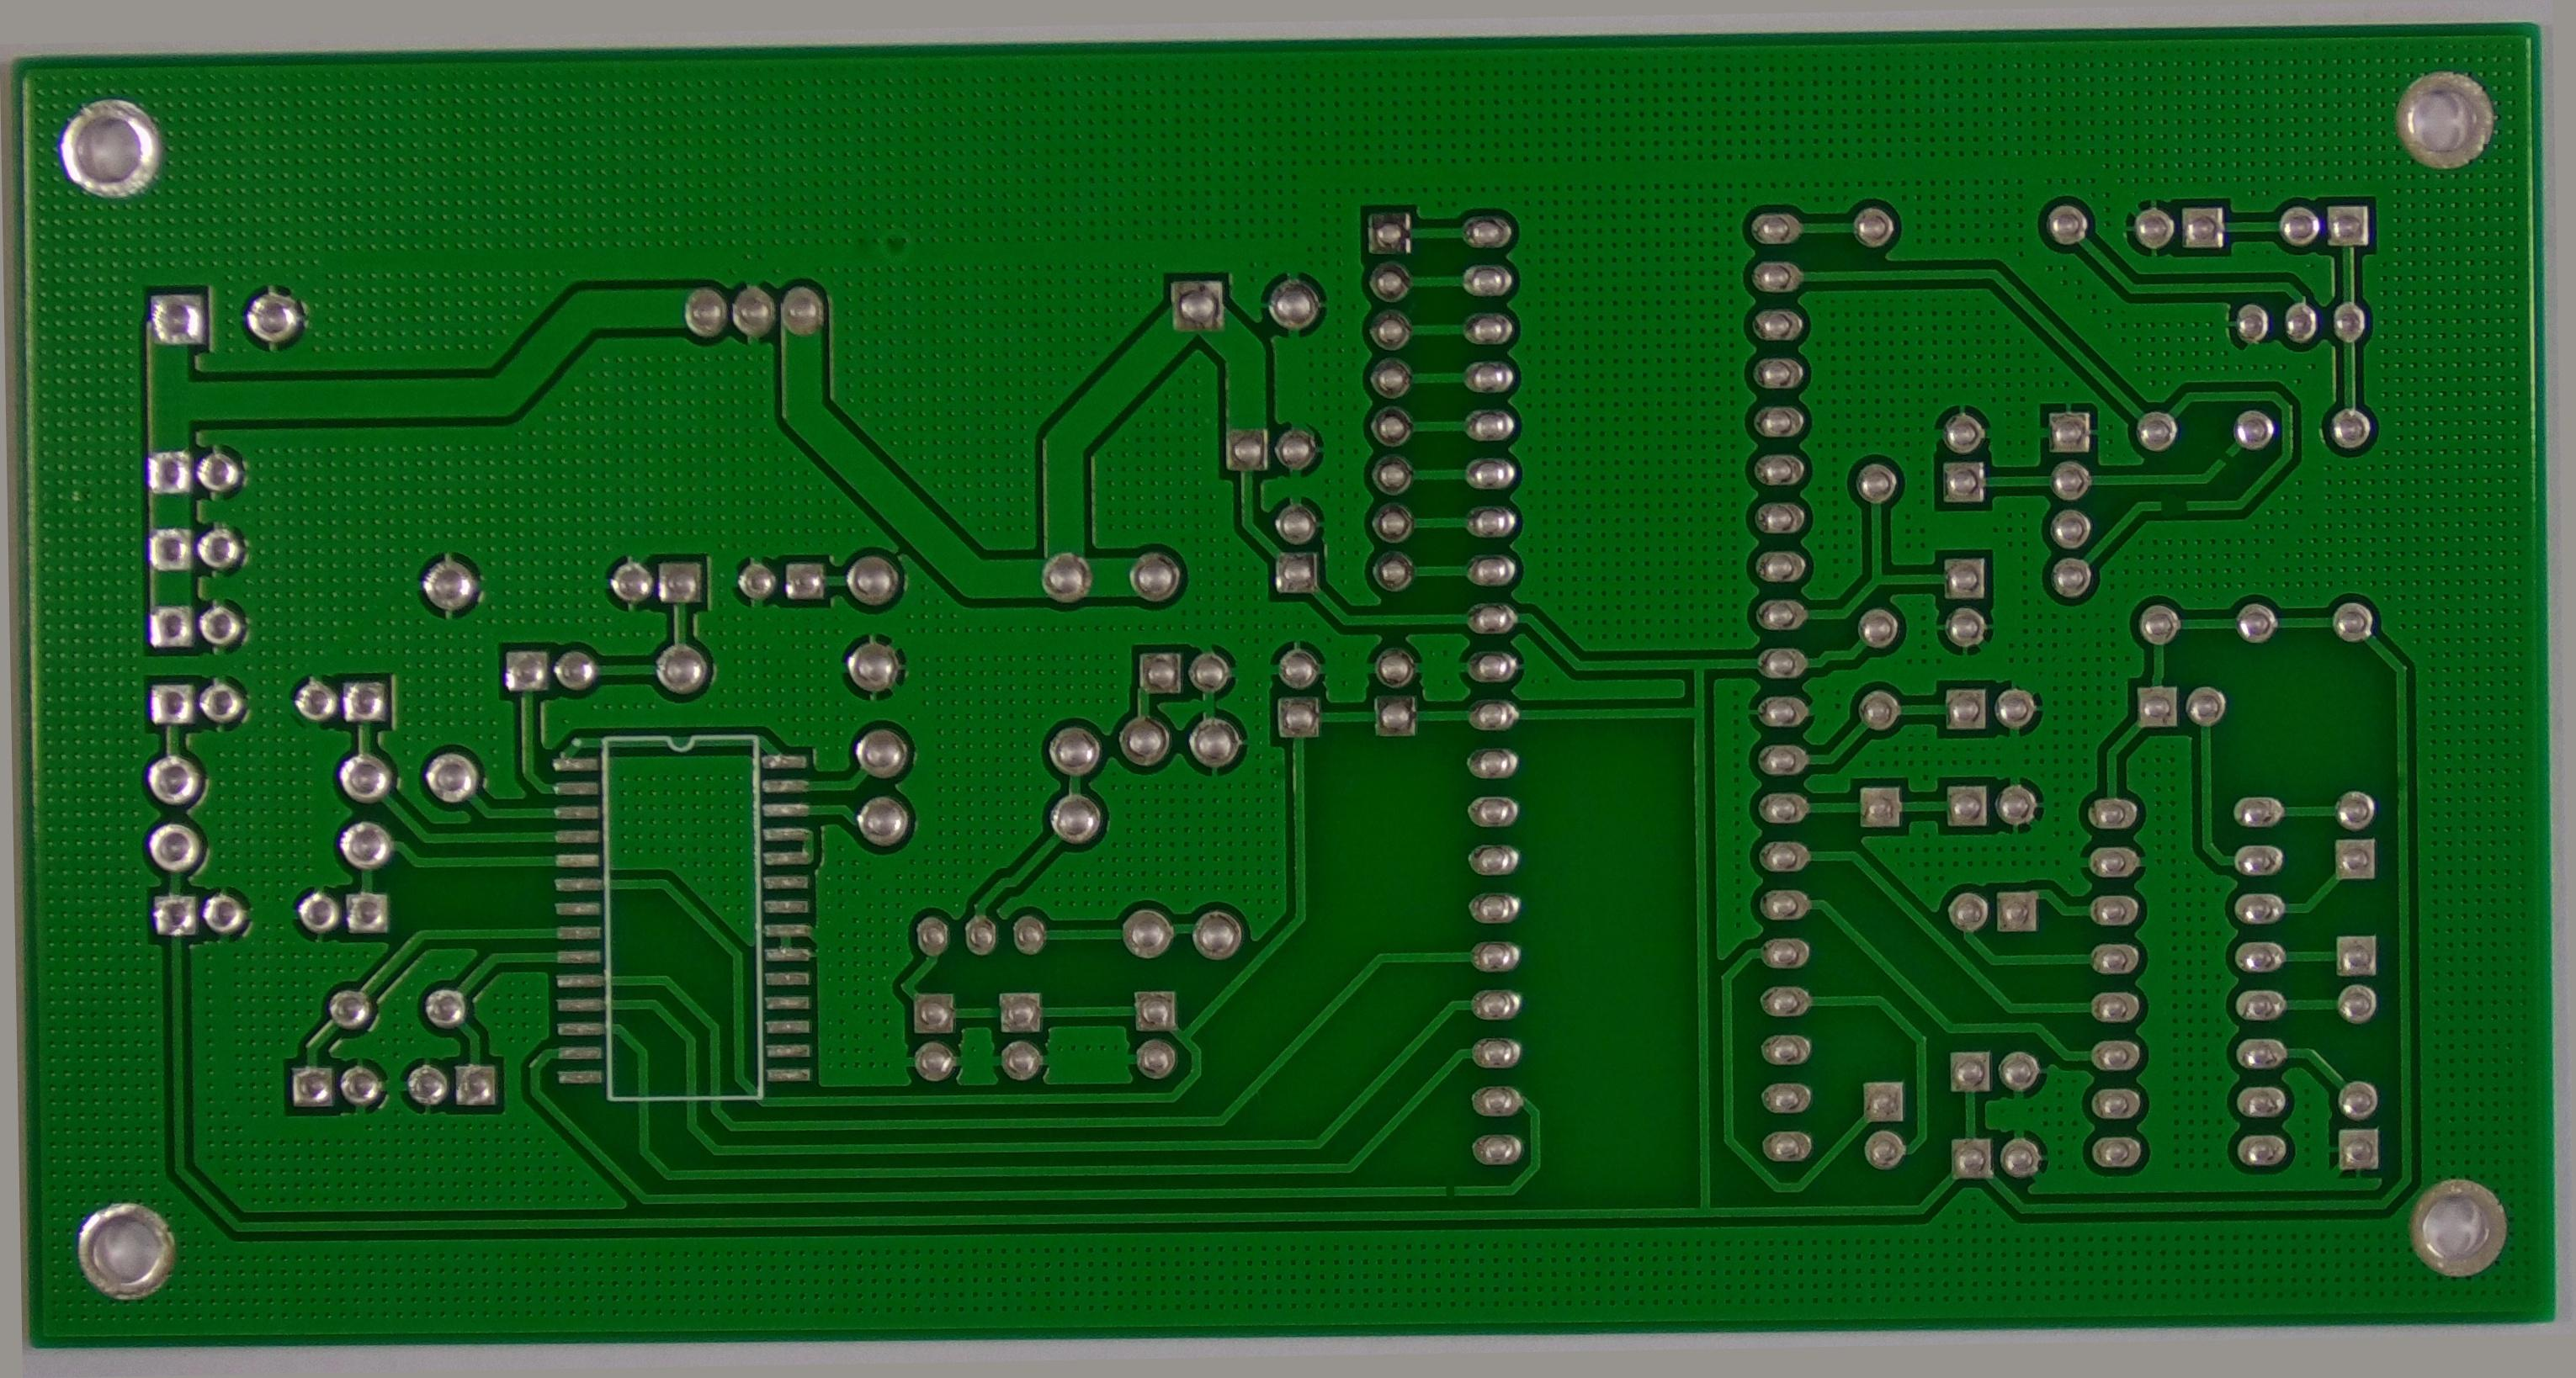open_circuit: (2162, 499, 2203, 530), (1429, 1194, 1453, 1223), (2223, 455, 2251, 479)
